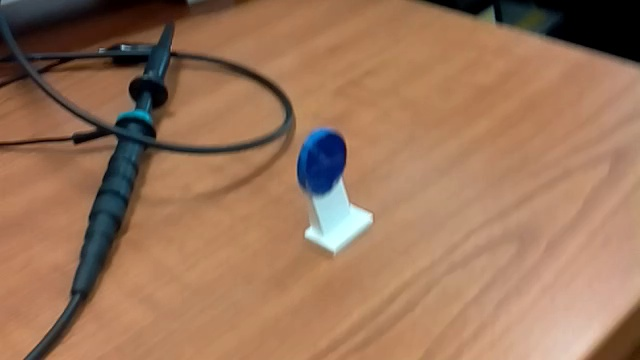circle: (288, 123, 382, 258)
